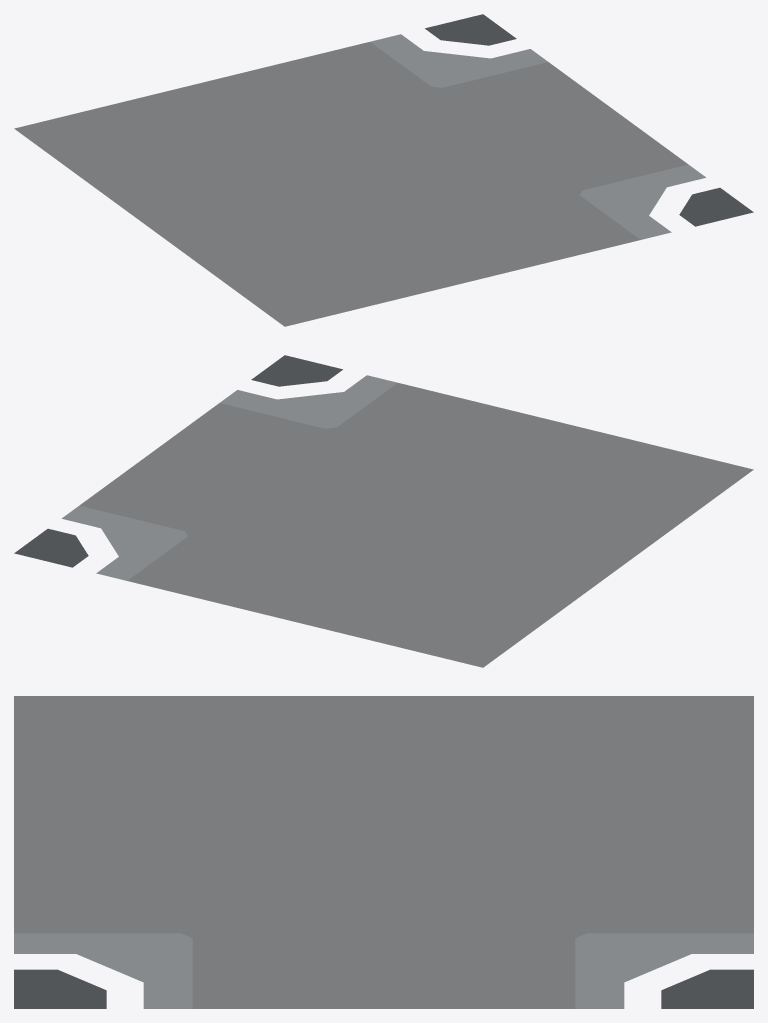
The model's file is Ceiling_type_B_047.glb.
The picture shows the model from 3 angles, top to bottom: view 1: azimuth 30°, elevation 25°; view 2: azimuth 150°, elevation 25°; view 3: azimuth 270°, elevation 25°; orthographic projection. The views are drawn at different scales.
Parts seen in each view (by area): view 1: Ceiling_type_B_047; view 2: Ceiling_type_B_047; view 3: Ceiling_type_B_047.
Boxes of the visible parts, x1,y1,x2,y2 form: Ceiling_type_B_047: (14, 14, 753, 326); Ceiling_type_B_047: (14, 355, 753, 667); Ceiling_type_B_047: (14, 696, 753, 1008).
Bounding box in the file's own units: 4 × 0.035 × 4.
Materials: 2 (2 with a texture image).
